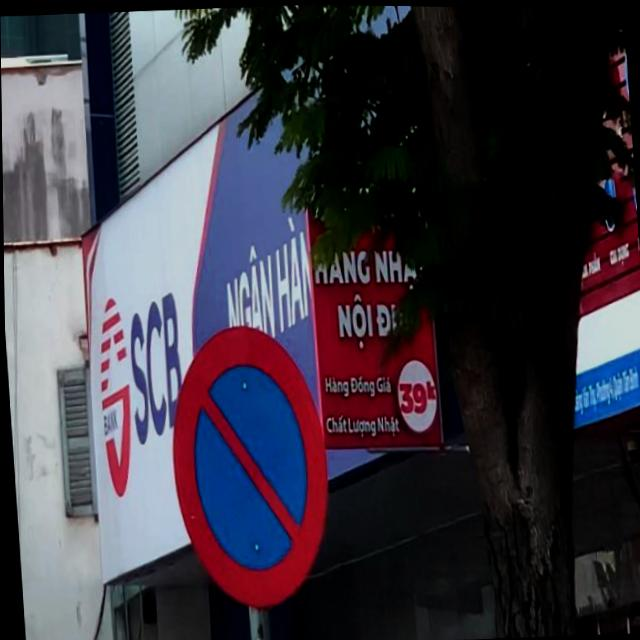Cam do xe: (162, 316, 336, 616)
